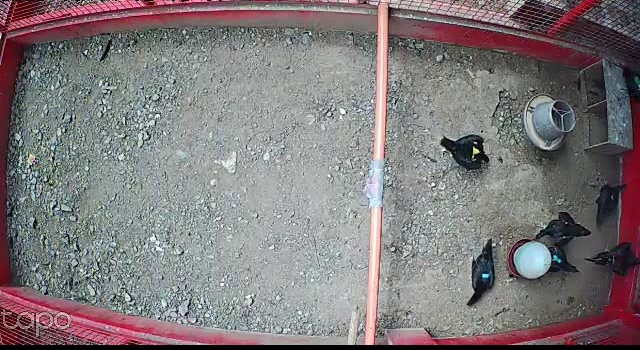Chicken: (526, 207, 593, 246), (438, 127, 493, 173), (590, 178, 633, 228), (465, 239, 497, 306), (540, 244, 581, 275)
Rooster: (581, 240, 640, 279)
Saddle_Color_Blue: (482, 274, 490, 279)
Saddle_Color_Yellow: (472, 142, 482, 158)
